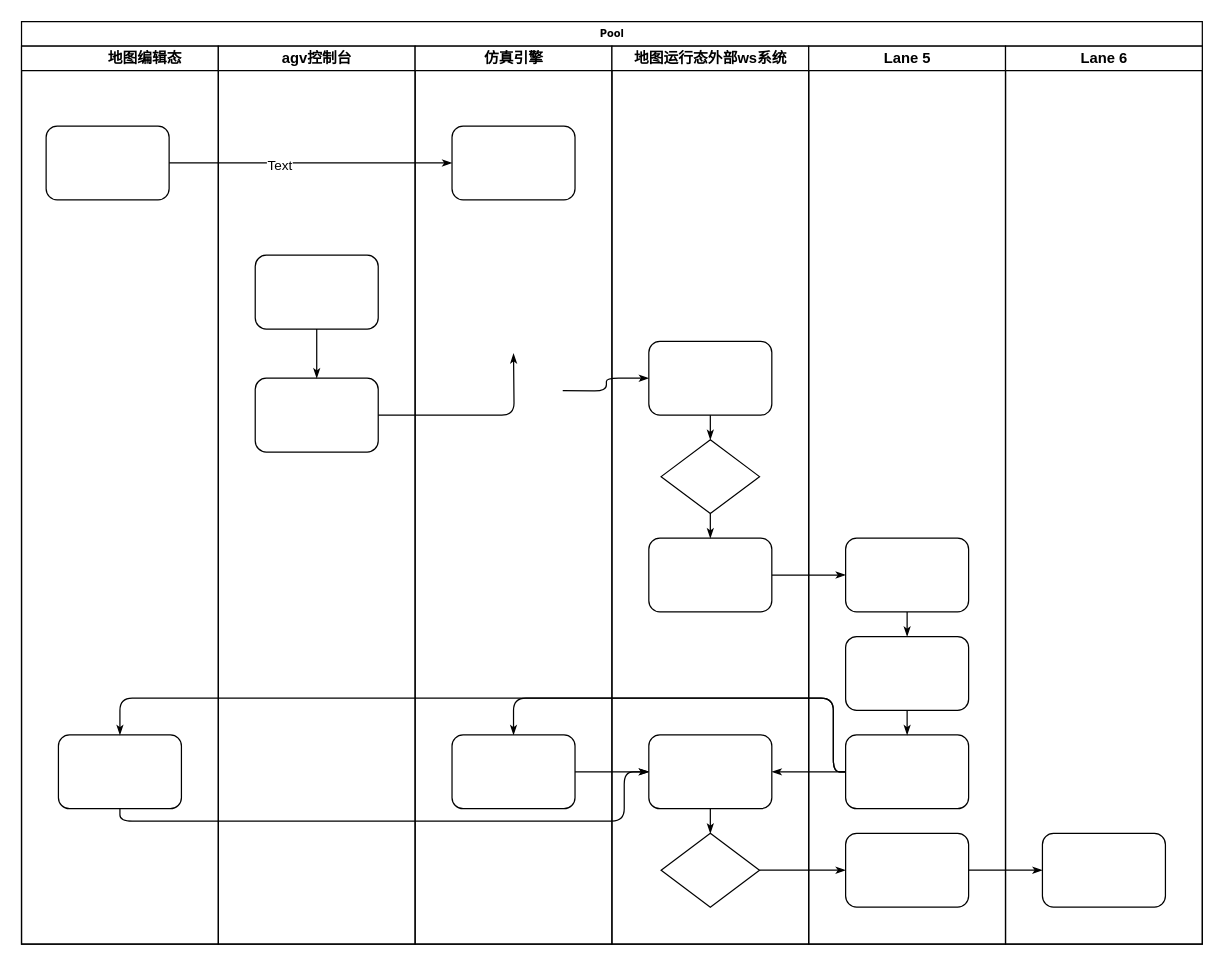
Some shapes in this 1224 by 966 pixel diagram are drawn without their labels. The shapes that lost their labels are listed below. From the top down, each one's centre as x and y in pixels, then its label:
At point (107, 162): "创建，修改地图".
At point (513, 162): "建模 （路码点&路线为主）".
At point (316, 291): "1.设备创建和导入 2.货架入场".
